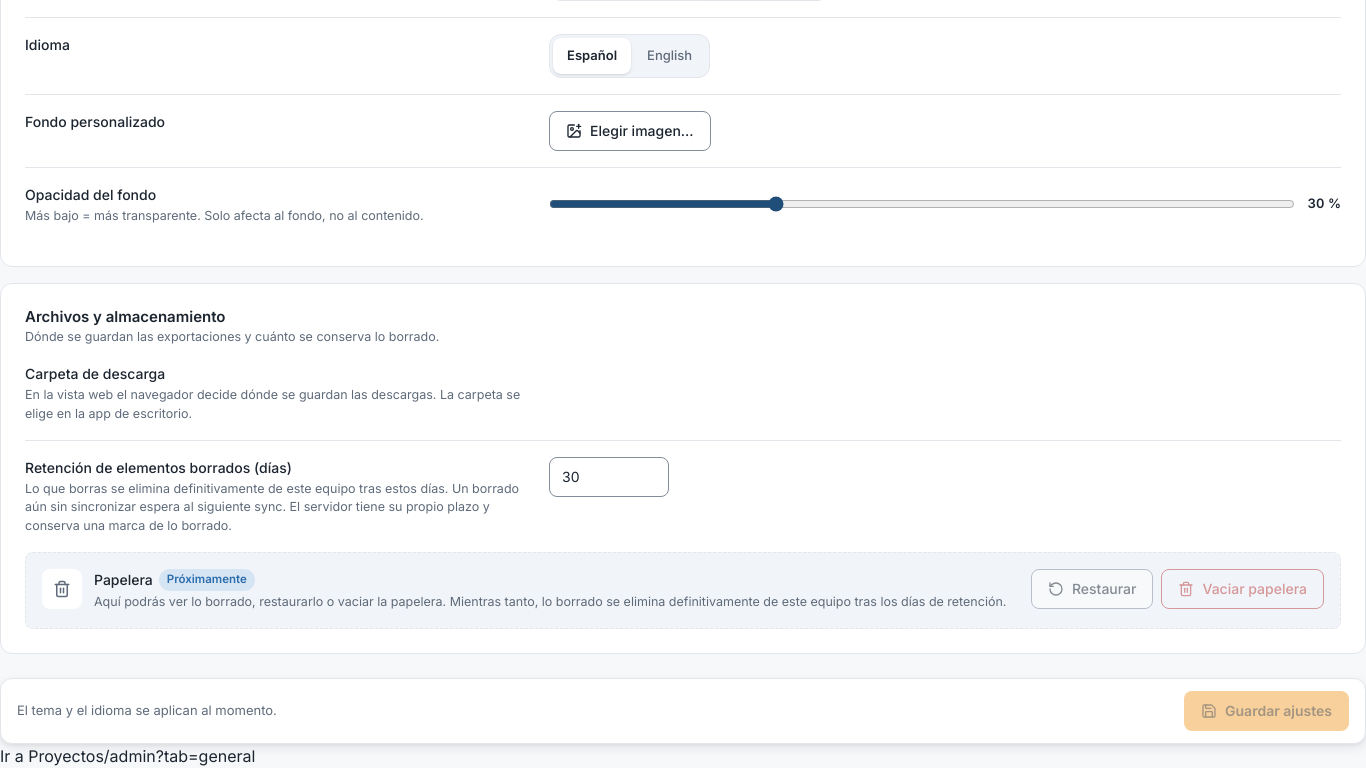
Administración › General saves only with changes, and leaving with them asks first
(page scrolled)
expect the button "Guardar ajustes" is disabled: met, box [1184, 691, 1349, 731]
Replace the text in the number field labelled "Retención de elementos borrados (días)" with "45" at coordinates (609, 477), box [549, 457, 669, 497]
(page scrolled)
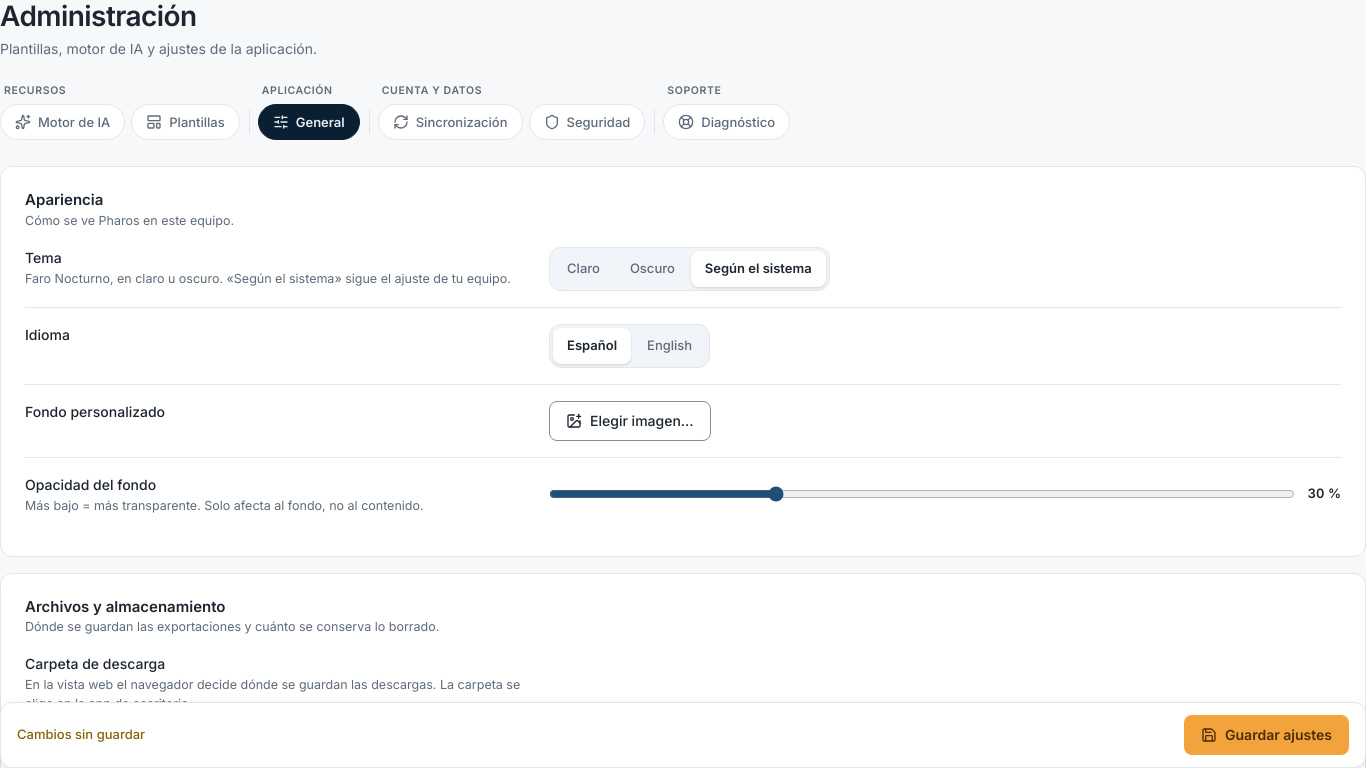
expect the button "Guardar ajustes" is enabled: met, box [1184, 715, 1349, 755]
Click the tab with test id "admin-tab-sync" at coordinates (450, 122), box [378, 104, 522, 140]
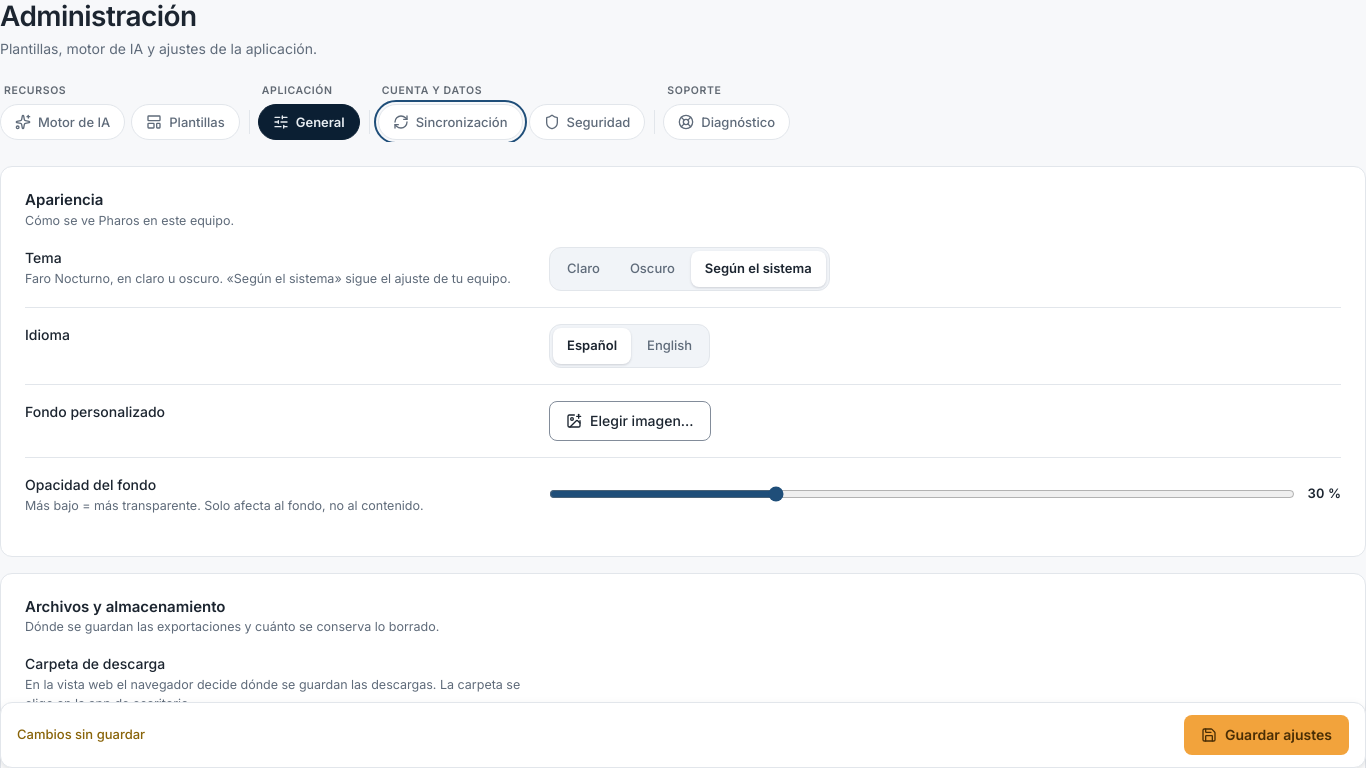
Click the button "Guardar ajustes" at coordinates (1266, 735), box [1184, 715, 1349, 755]
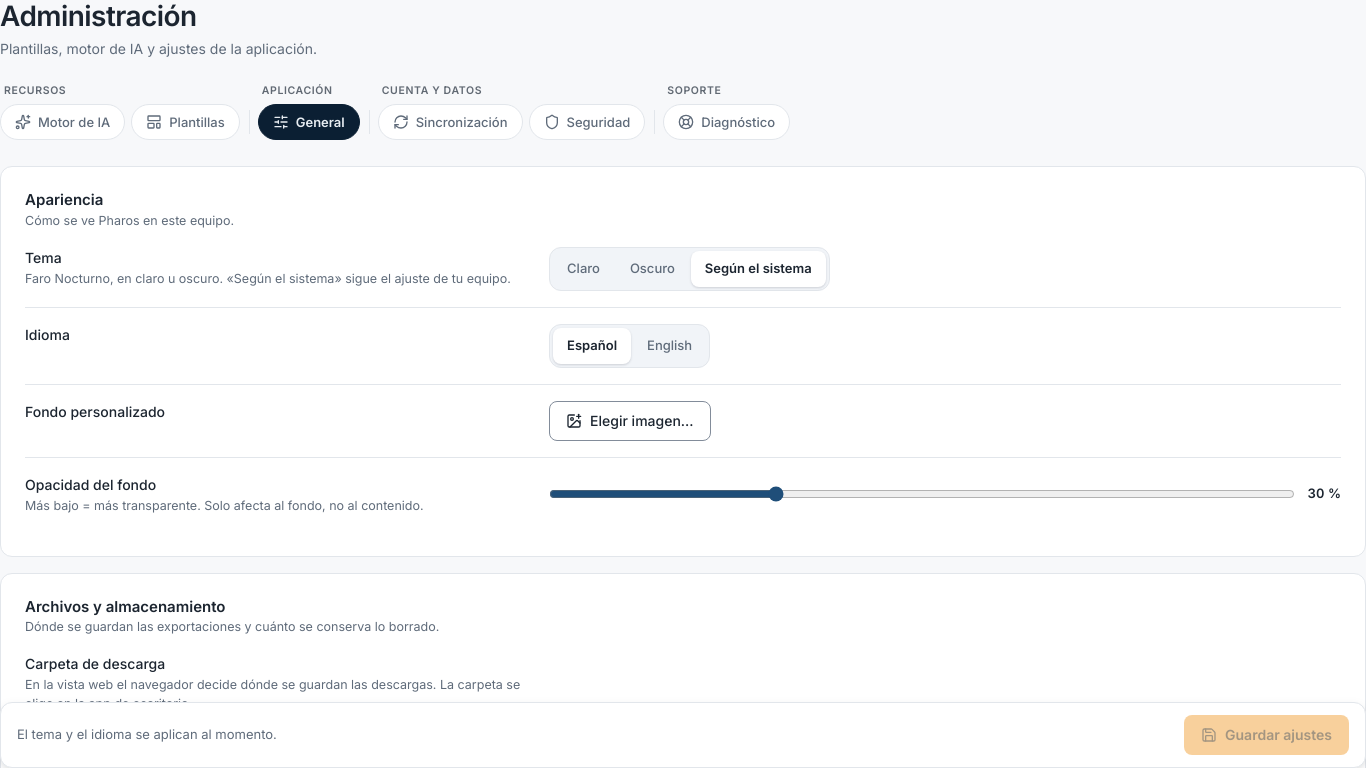
expect the button "Guardar ajustes" is disabled: met, box [1184, 715, 1349, 755]
